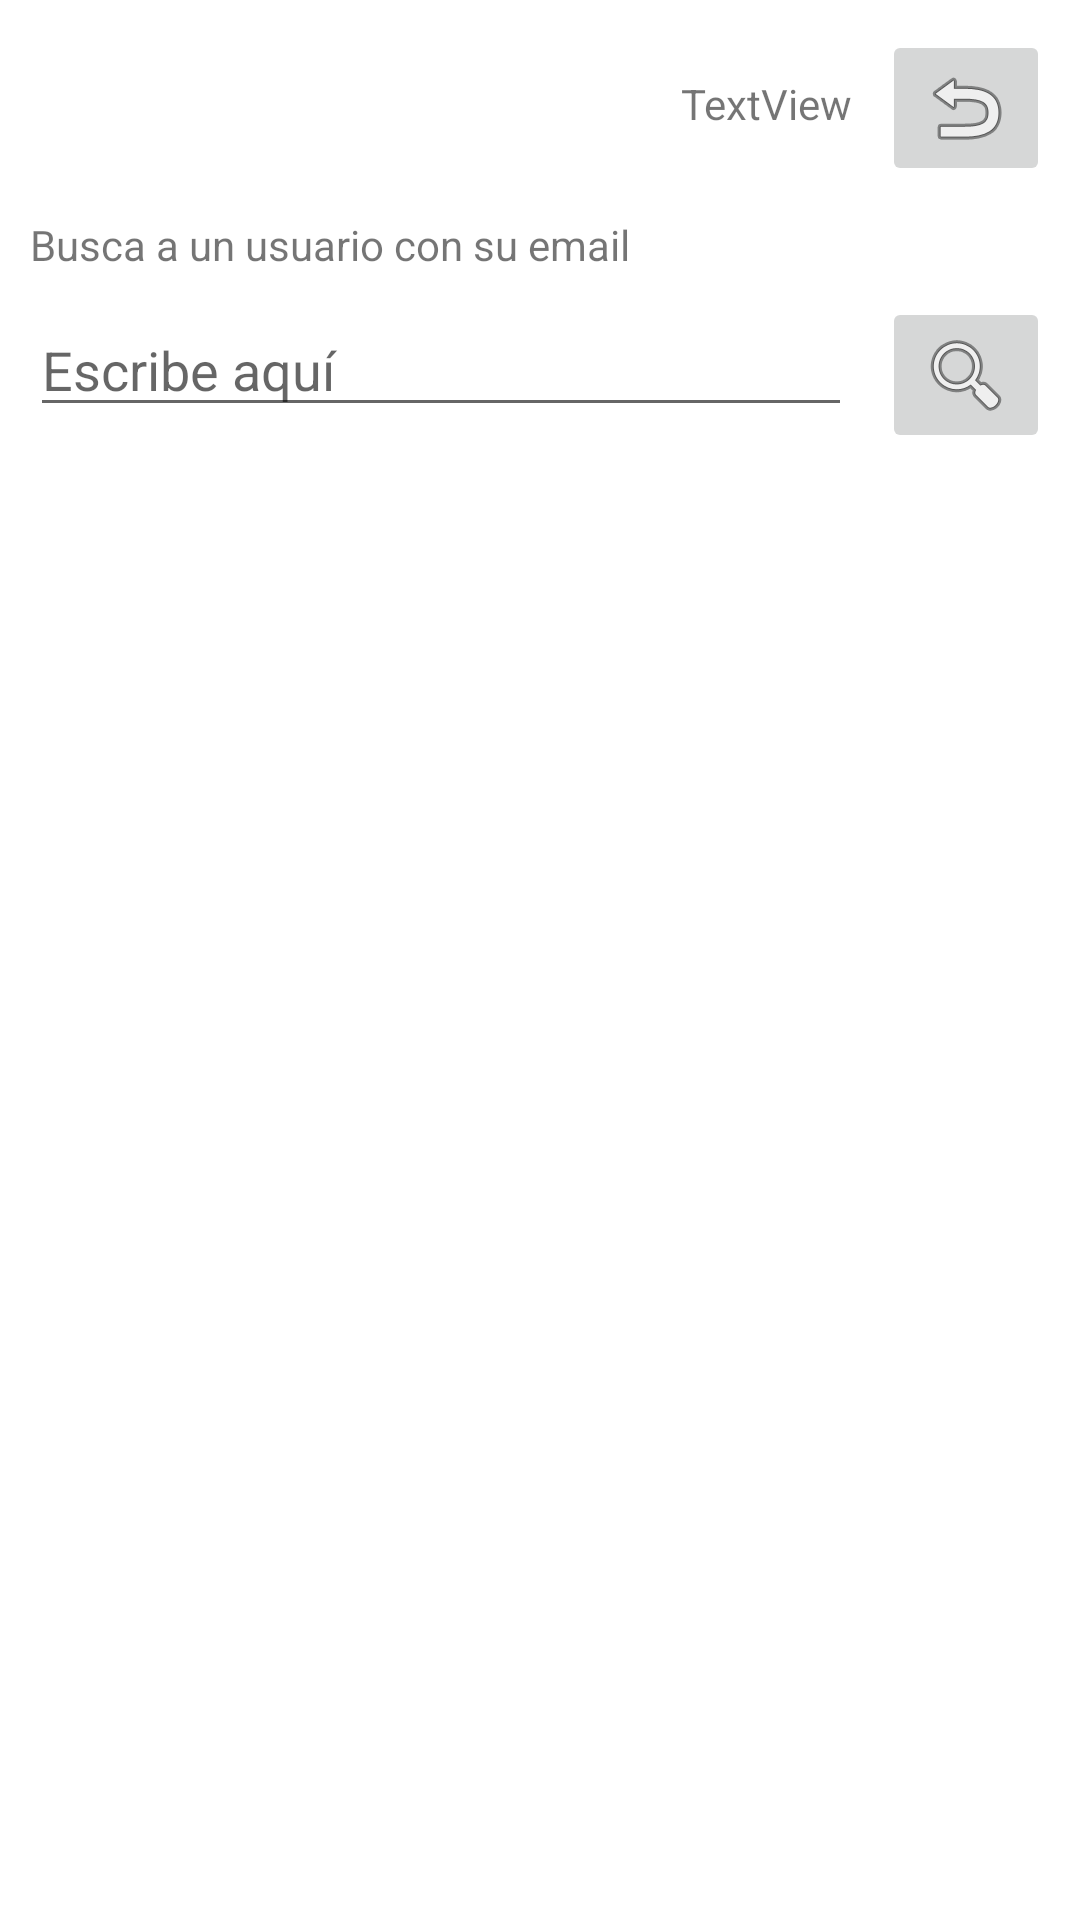

Icon click points for this 1080w x 1920h phone screenshot, format (x=x, y=y):
revert: (x=966, y=108)
search: (x=966, y=375)
